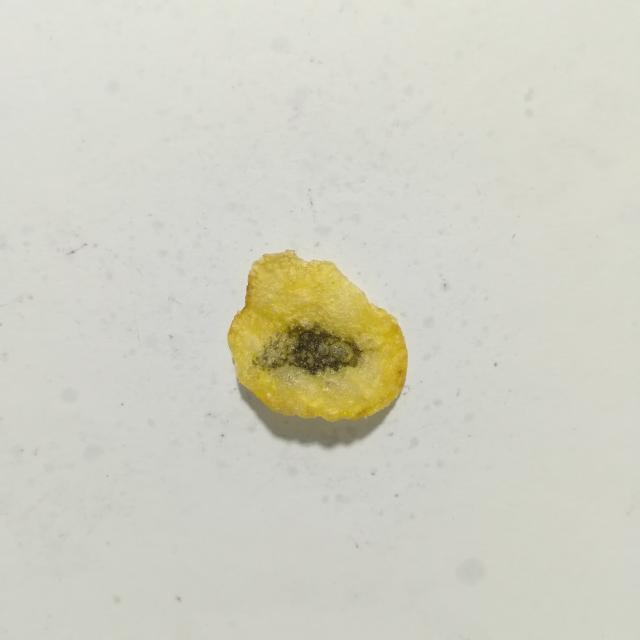chip: (228, 251, 408, 421)
semi-damaged: (253, 322, 363, 375)
